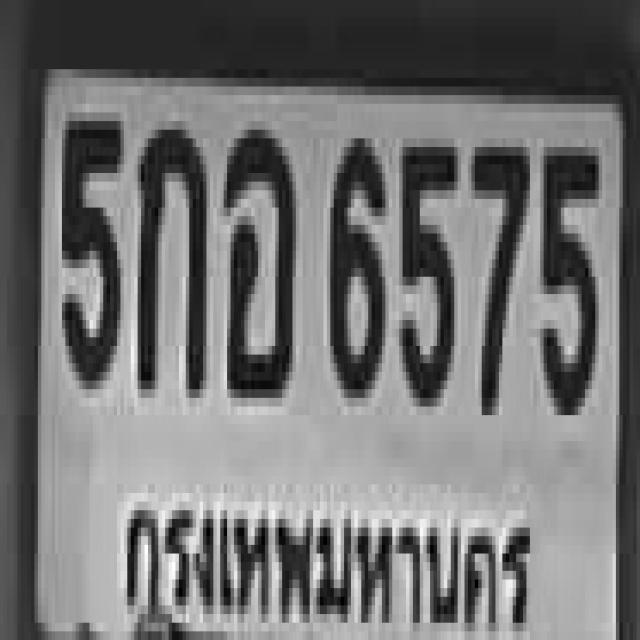10GorGai: (134, 117, 203, 385)
5: (58, 108, 120, 376), (537, 134, 595, 402), (396, 134, 454, 394)
52OrAng: (220, 117, 293, 385)
6: (327, 125, 382, 385)
7: (468, 134, 526, 402)
Bangkok: (115, 489, 542, 640)
